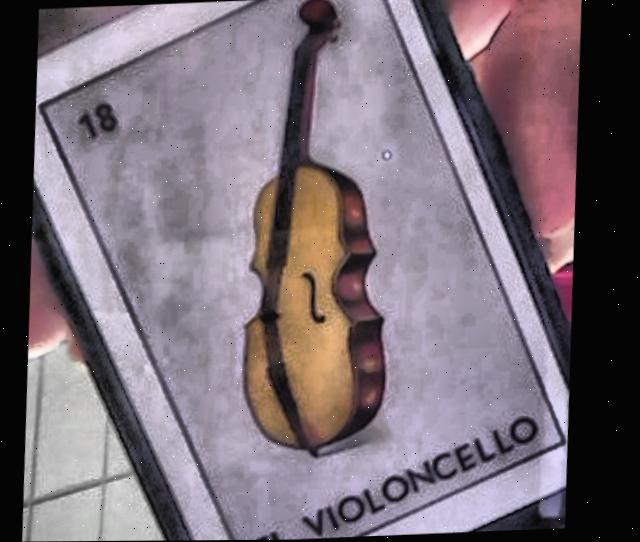El Violoncello: (46, 0, 567, 540)
